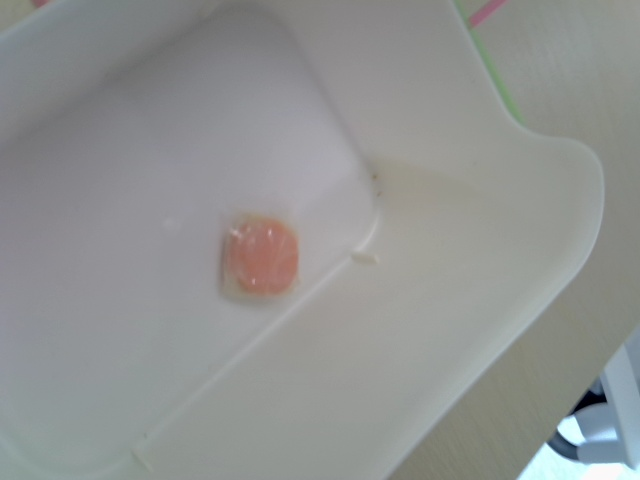씨앗: (221, 210, 303, 297)
